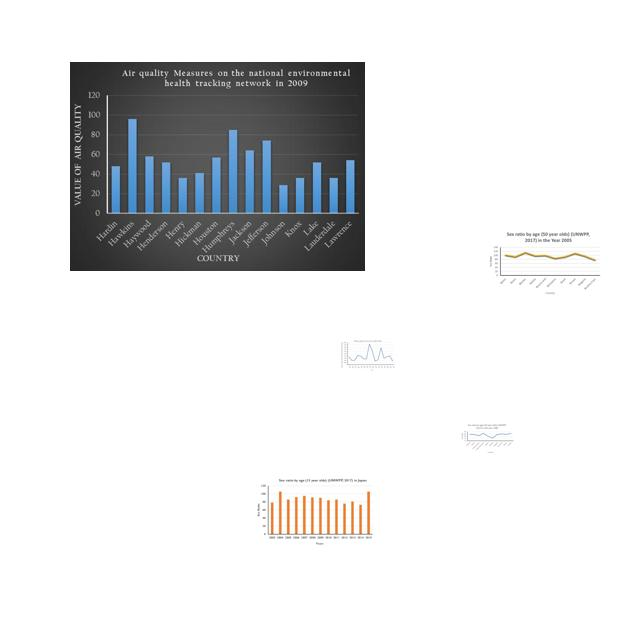Graph: (70, 62, 365, 271), (253, 477, 376, 548), (486, 229, 602, 296), (460, 423, 514, 454), (341, 340, 395, 371)
